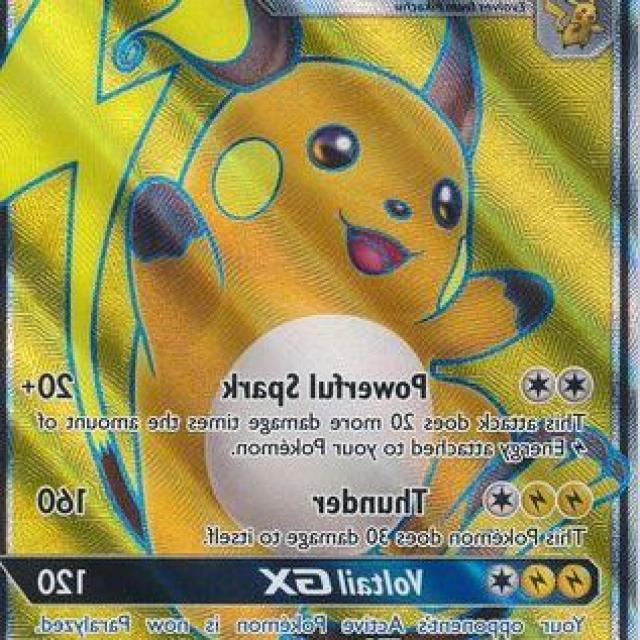Raichu: (118, 22, 514, 561)
